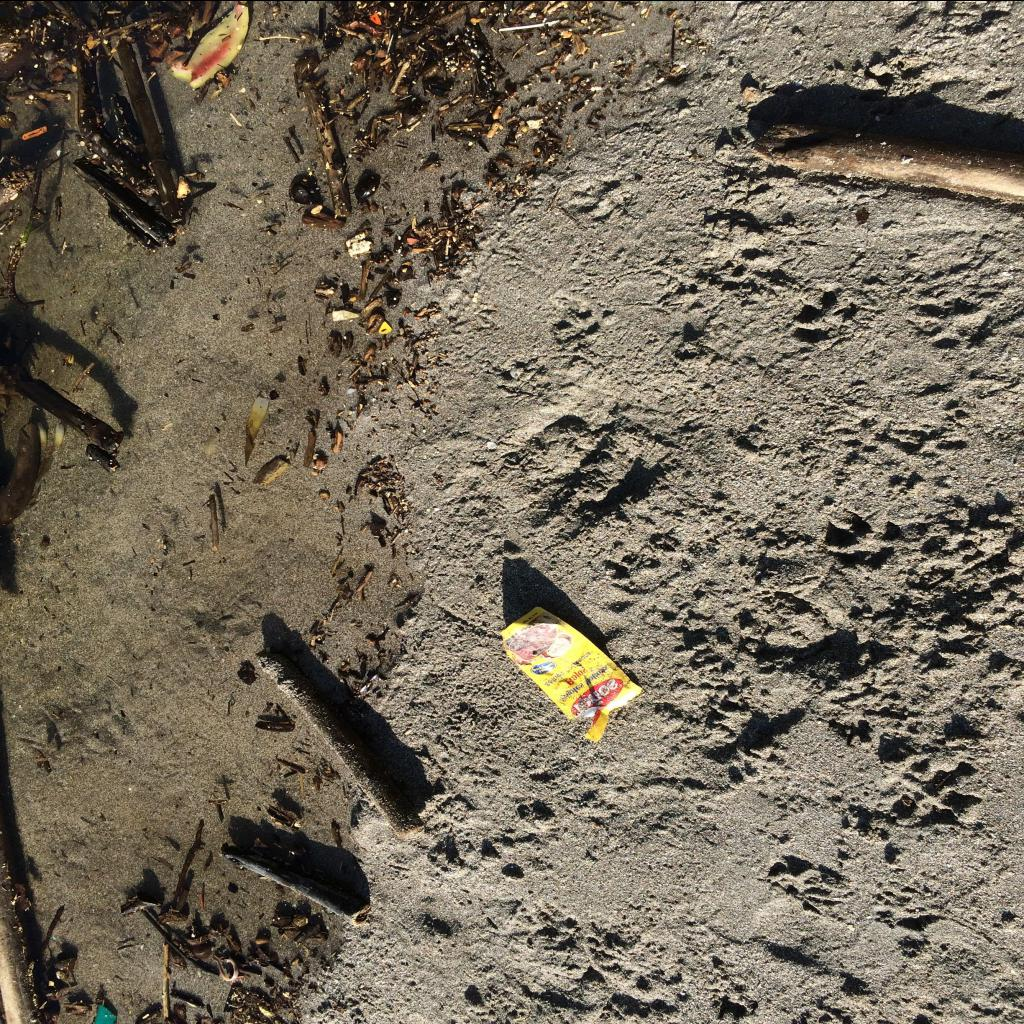Other plastic: (501, 606, 642, 741)
Styrofoam piece: (346, 232, 372, 256)
